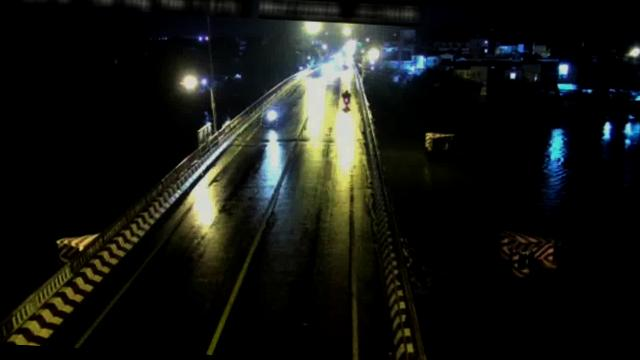Bike: (261, 106, 278, 128), (339, 89, 352, 105)
